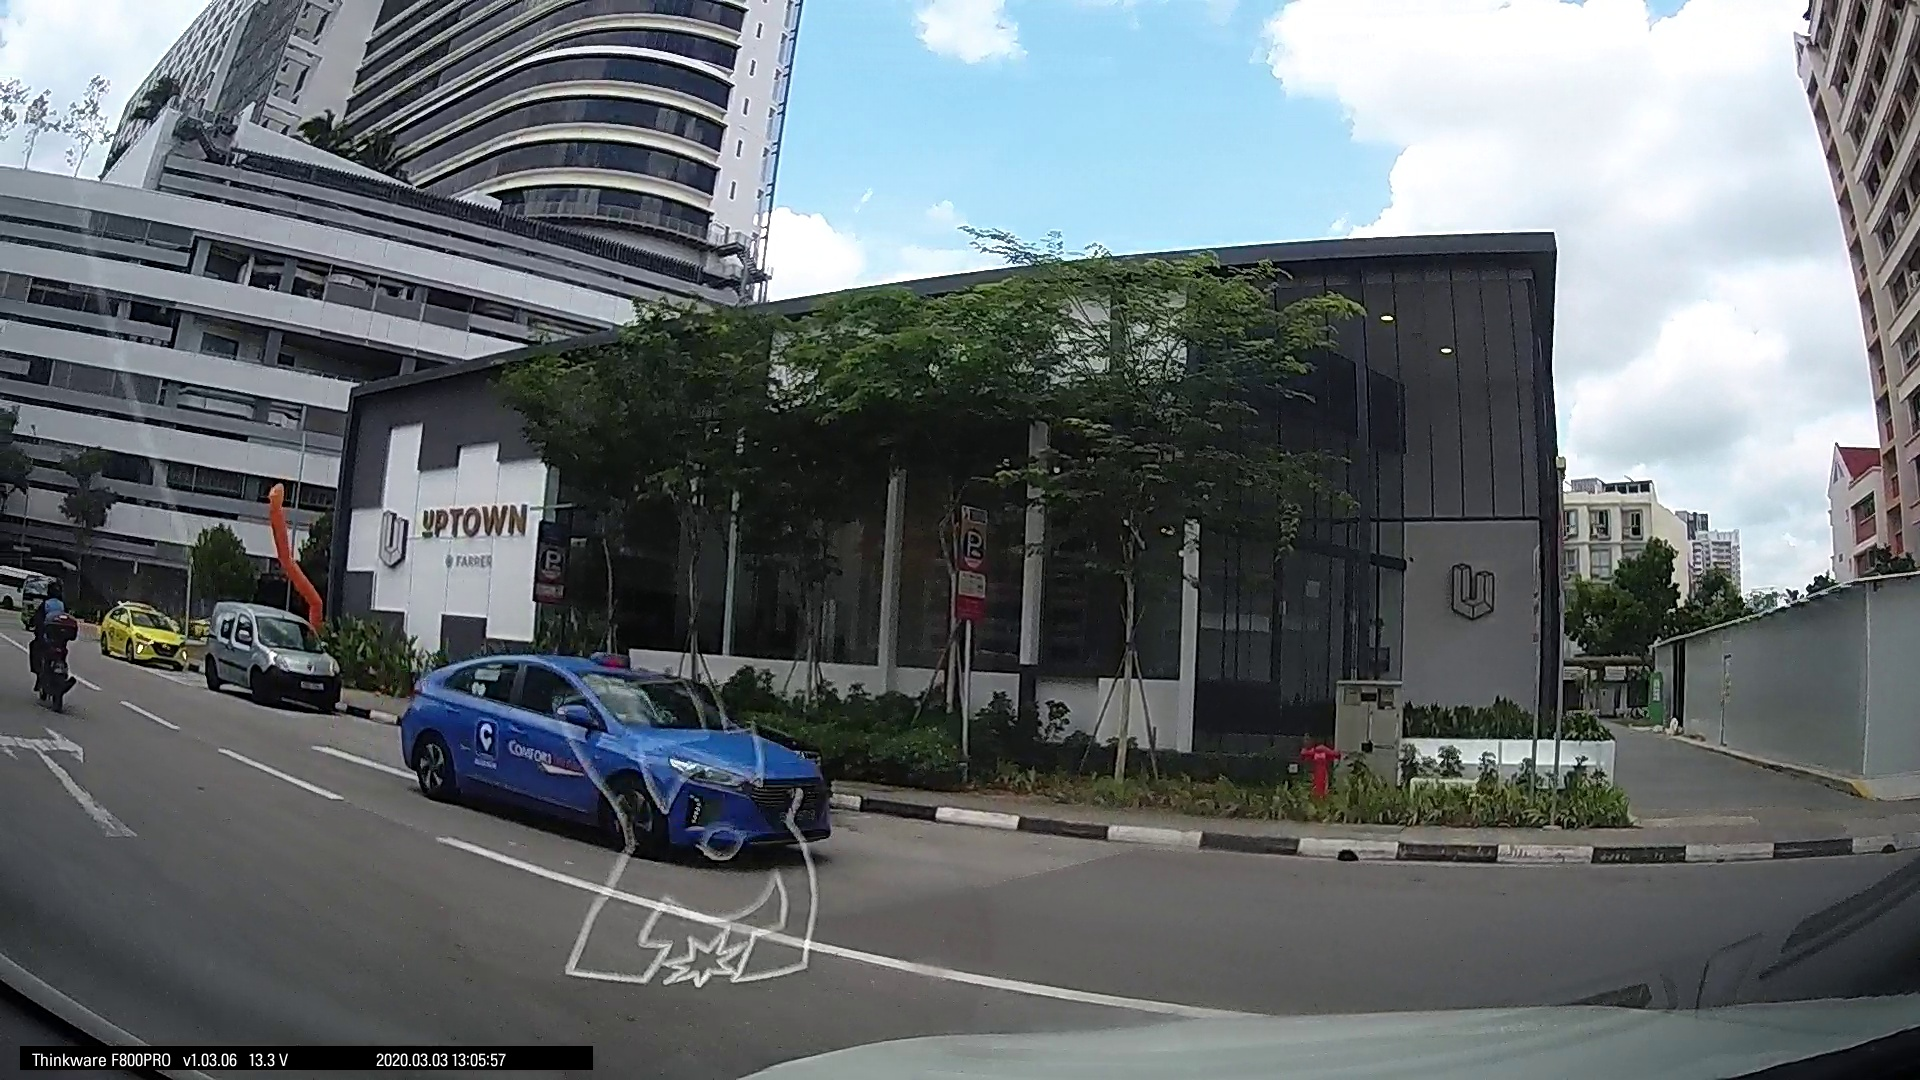Heavy Vehicle: (343, 463, 880, 806), (885, 570, 1004, 723), (1191, 632, 1254, 700)
Light Vehicle: (1374, 678, 1507, 761), (1327, 669, 1399, 735)
